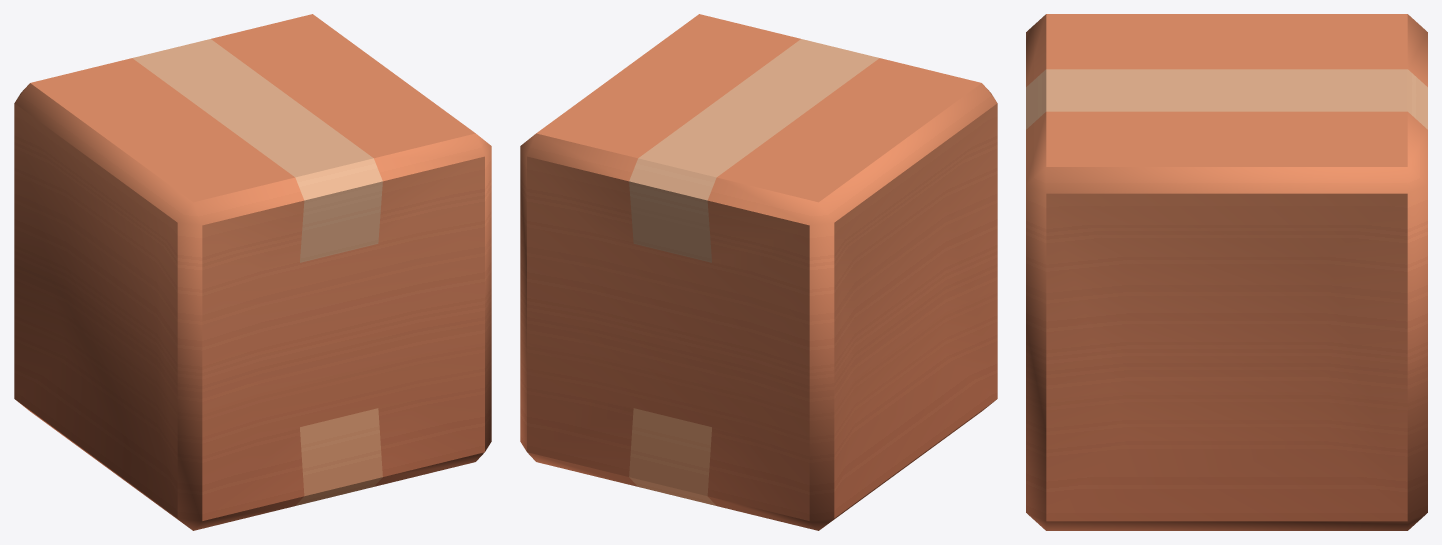
The model's file is prop-crate.glb.
The picture shows the model from 3 angles, left to right: view 1: azimuth 30°, elevation 25°; view 2: azimuth 150°, elevation 25°; view 3: azimuth 270°, elevation 25°; orthographic projection. The views are drawn at different scales.
Parts seen in each view (by area): view 1: box; view 2: box; view 3: box.
Part boxes in pixels (x1,y1,x2,y2): box: (14, 14, 491, 530); box: (520, 14, 997, 530); box: (1026, 14, 1427, 530).
Size of the model in its own units: 0.25 by 0.25 by 0.25.
1 material, 1 textured.
